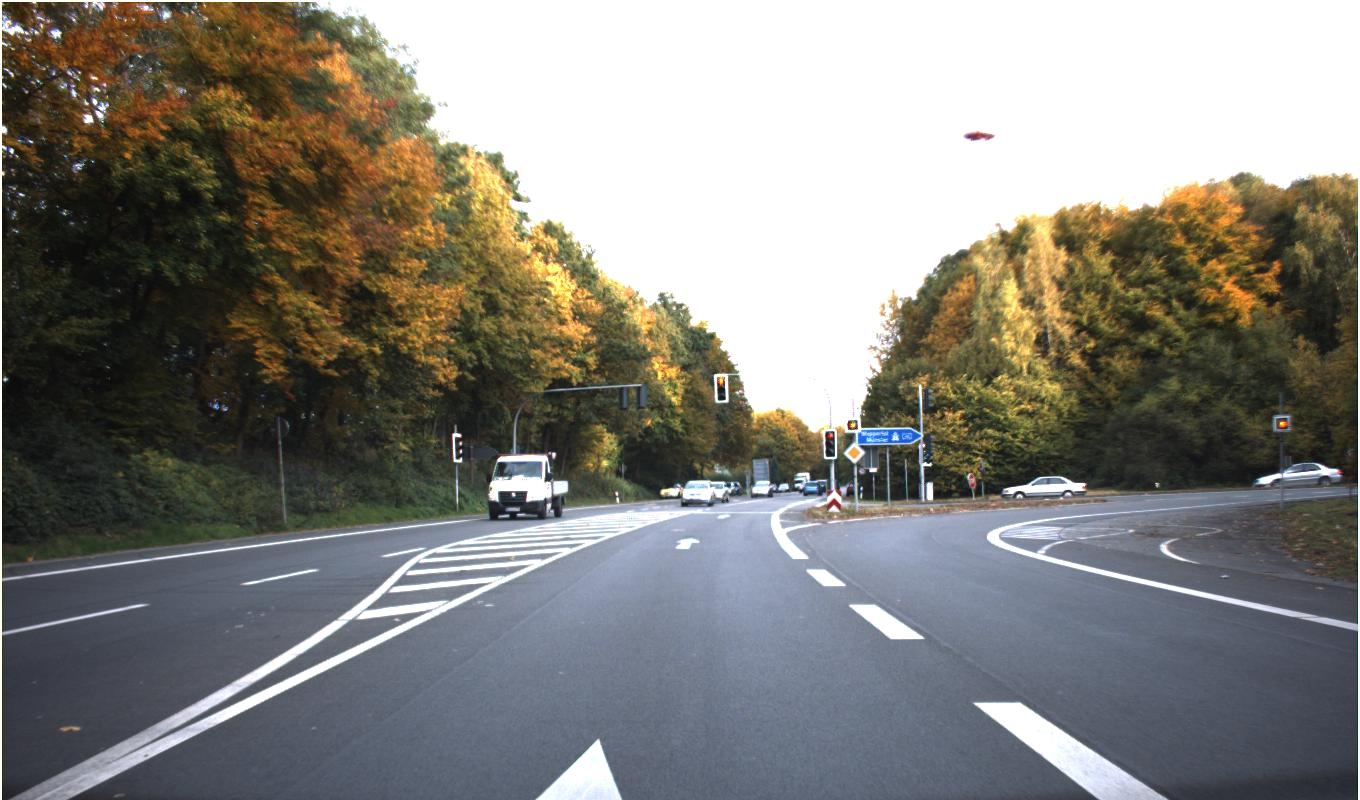sign: (842, 440, 866, 464)
